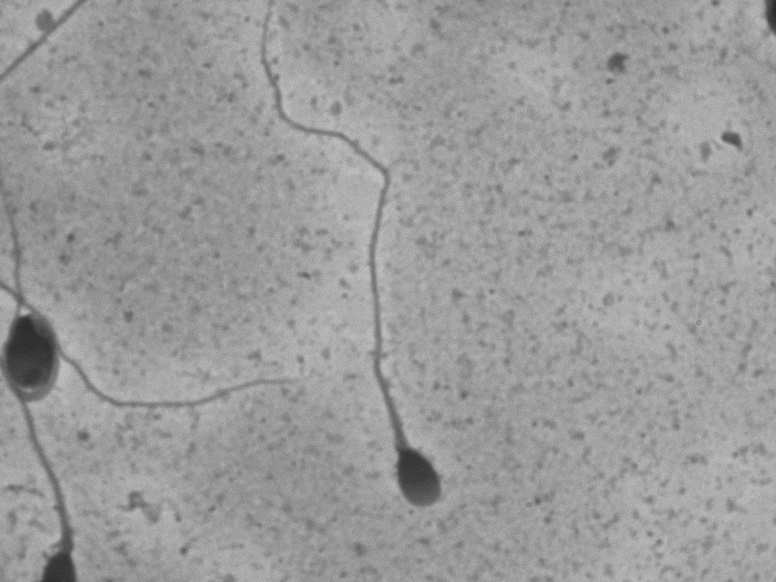Normal: (251, 15, 496, 555)
